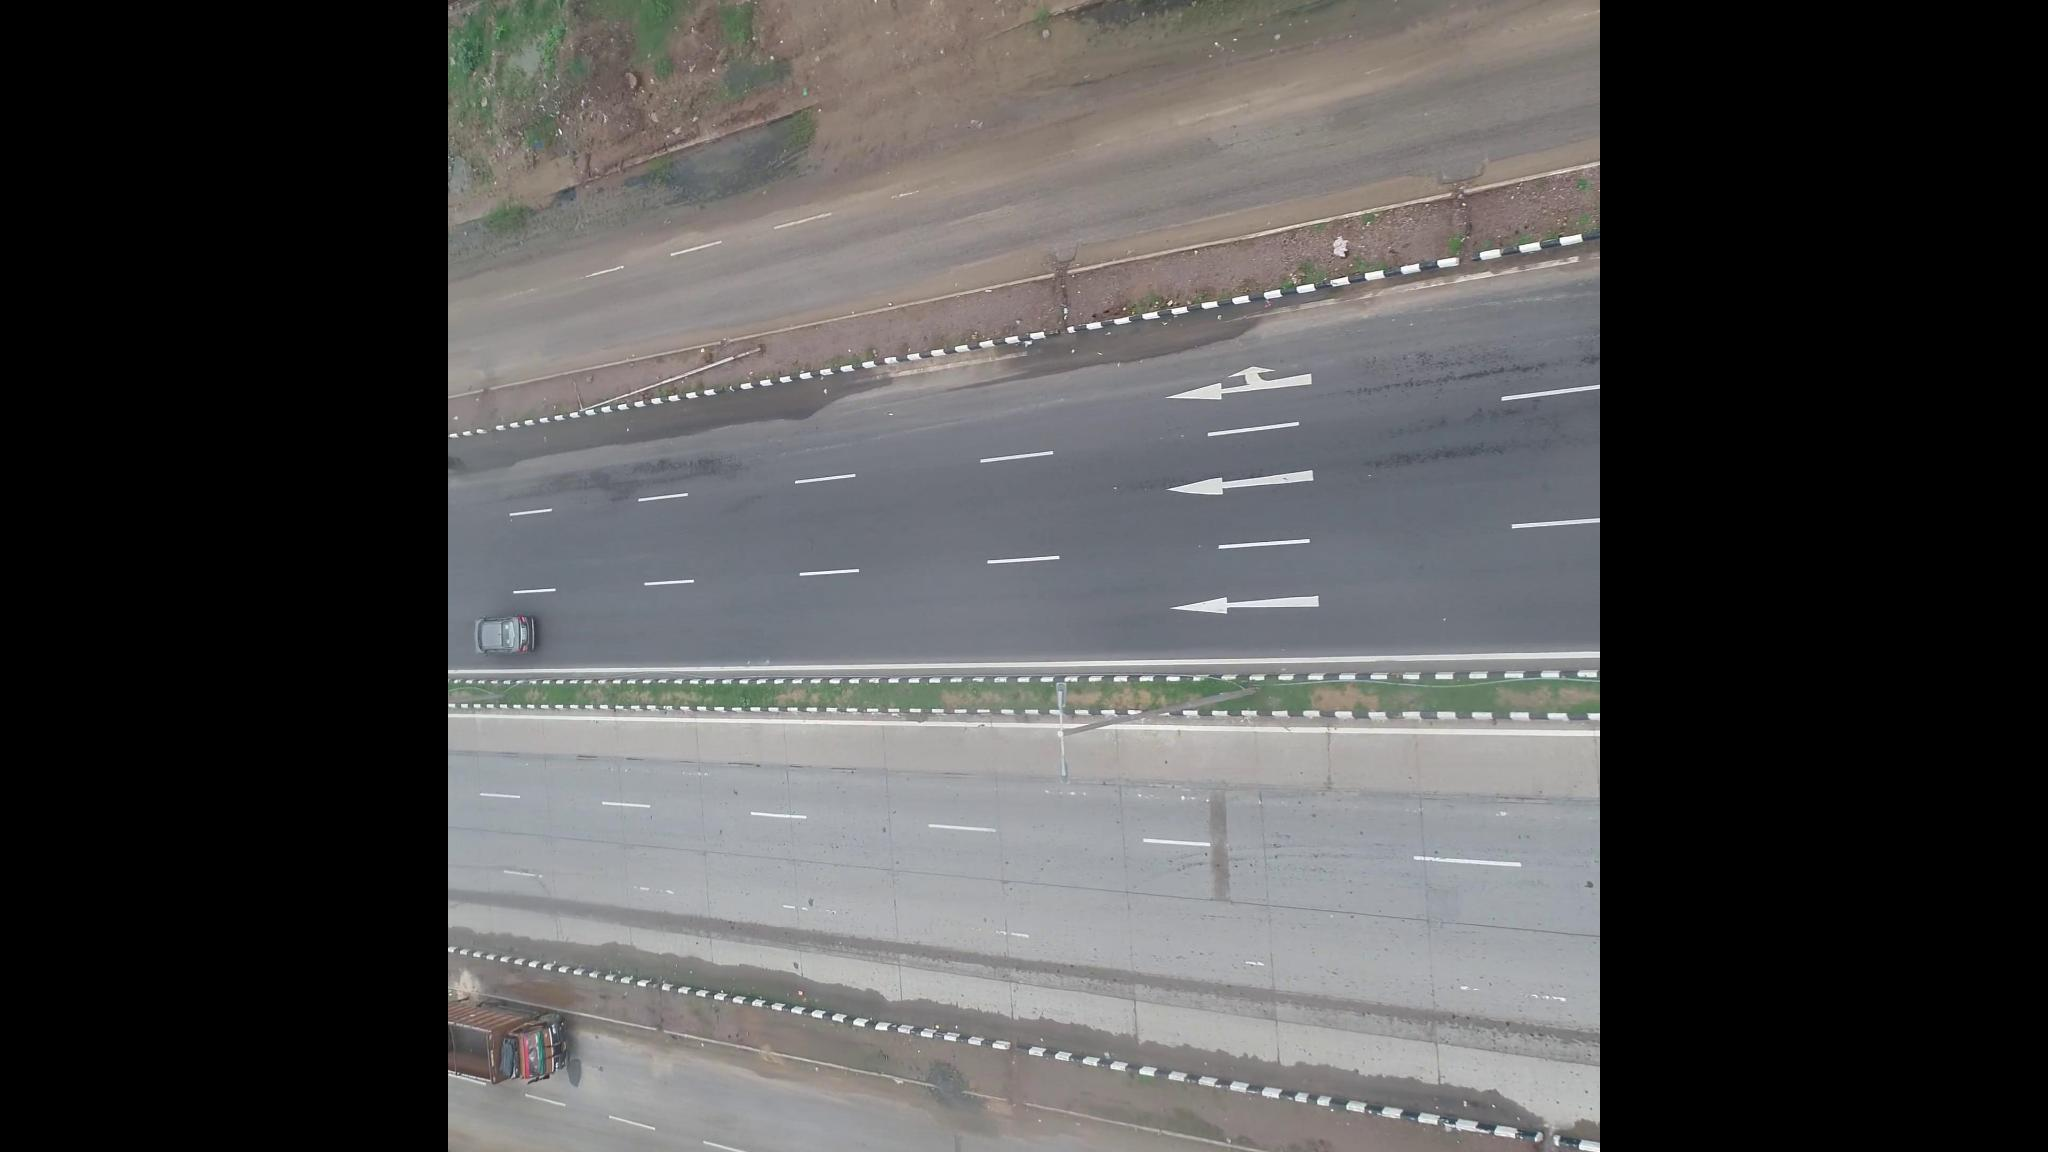Ravelling: (1340, 339, 1578, 404), (522, 443, 723, 511), (1350, 423, 1501, 495)
